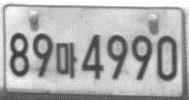0: (156, 36, 177, 81)
4: (81, 34, 104, 79)
8: (8, 32, 29, 77)
9: (106, 34, 128, 81), (131, 35, 153, 80), (32, 33, 53, 77)
마: (55, 41, 77, 79)
